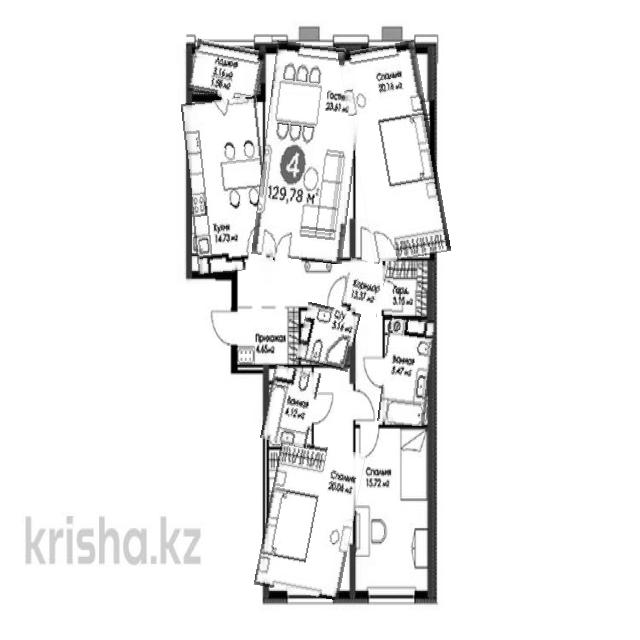balcony: (190, 41, 263, 100)
bathroom: (380, 316, 433, 425), (264, 366, 318, 446), (298, 305, 358, 370)
hallway: (235, 273, 300, 368), (342, 259, 386, 316)
kitchen: (186, 98, 270, 274)
living_room: (258, 43, 361, 262), (347, 42, 443, 262), (260, 442, 360, 597), (355, 423, 433, 598)
other: (382, 262, 432, 317)
